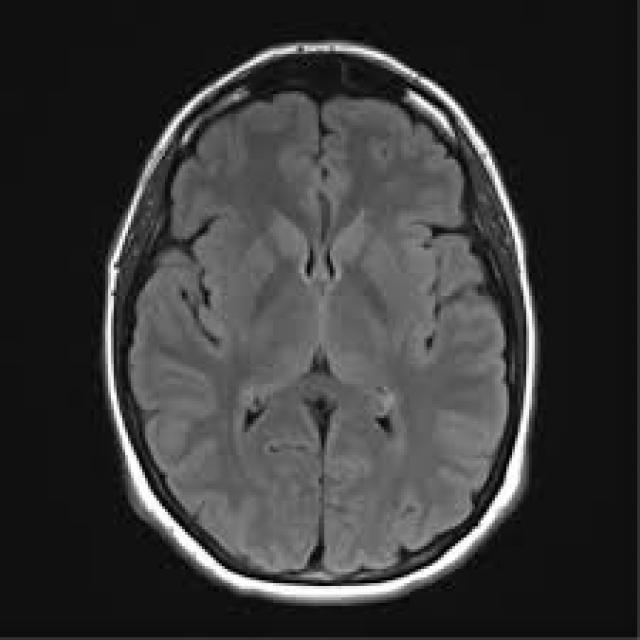No_Tumor: (104, 41, 535, 602)
